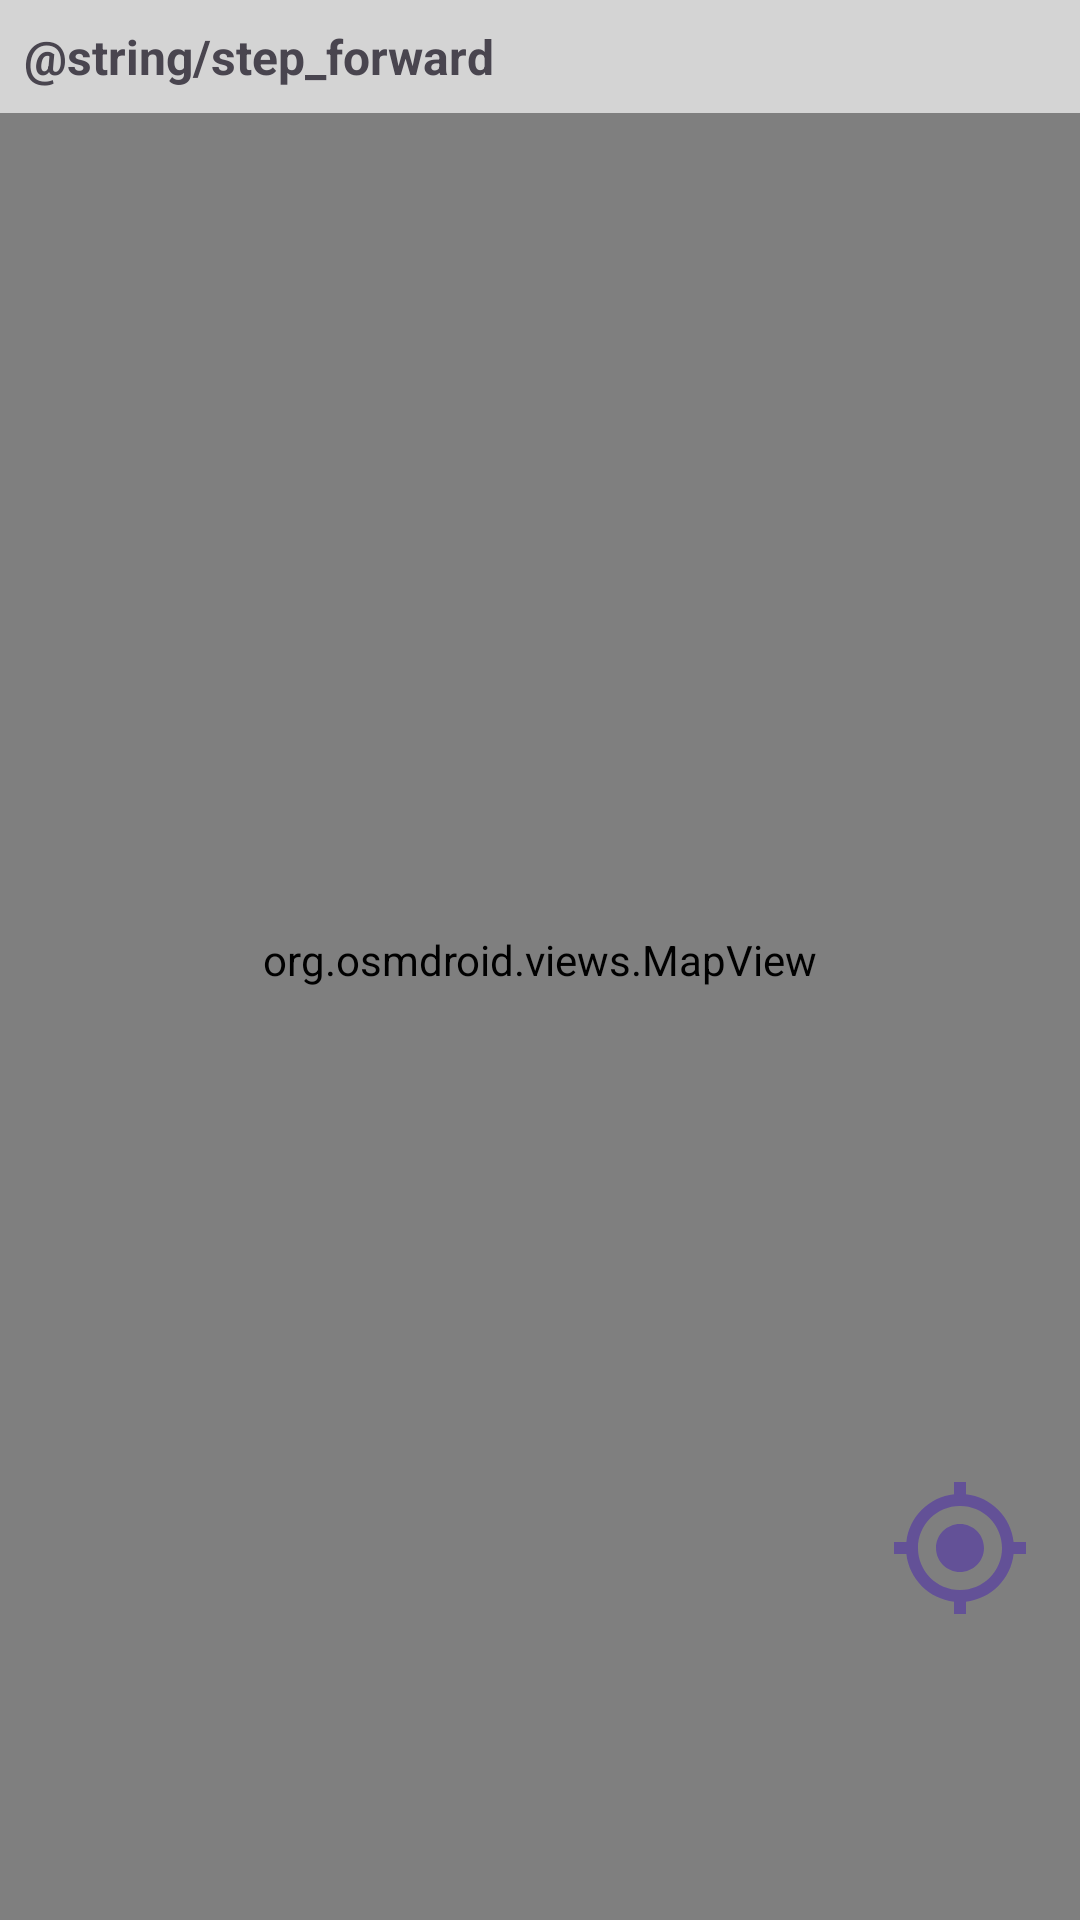

Icons on this 1080 x 1920 Android screen, each with the point to tap as point (x, y):
показать меня: point (960, 1548)
